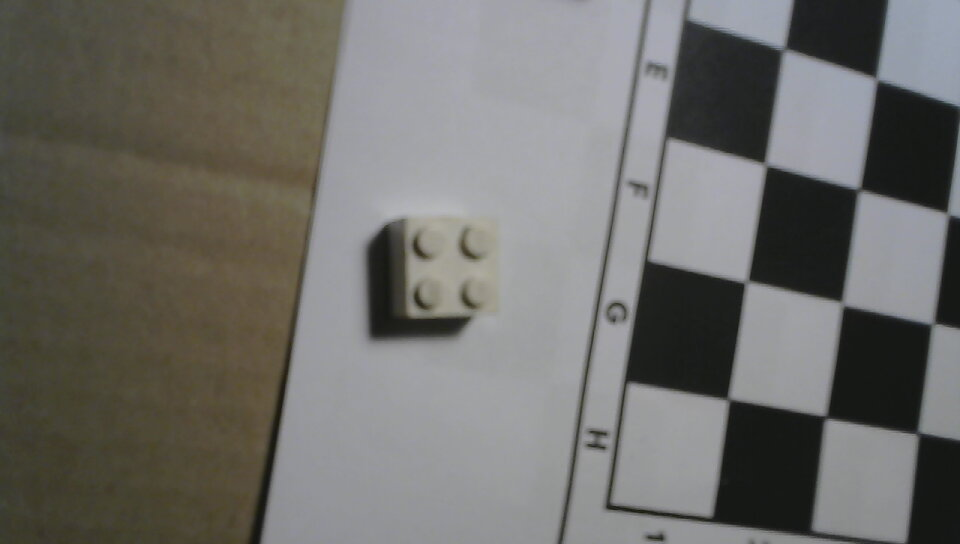wp: (383, 203, 511, 340)
